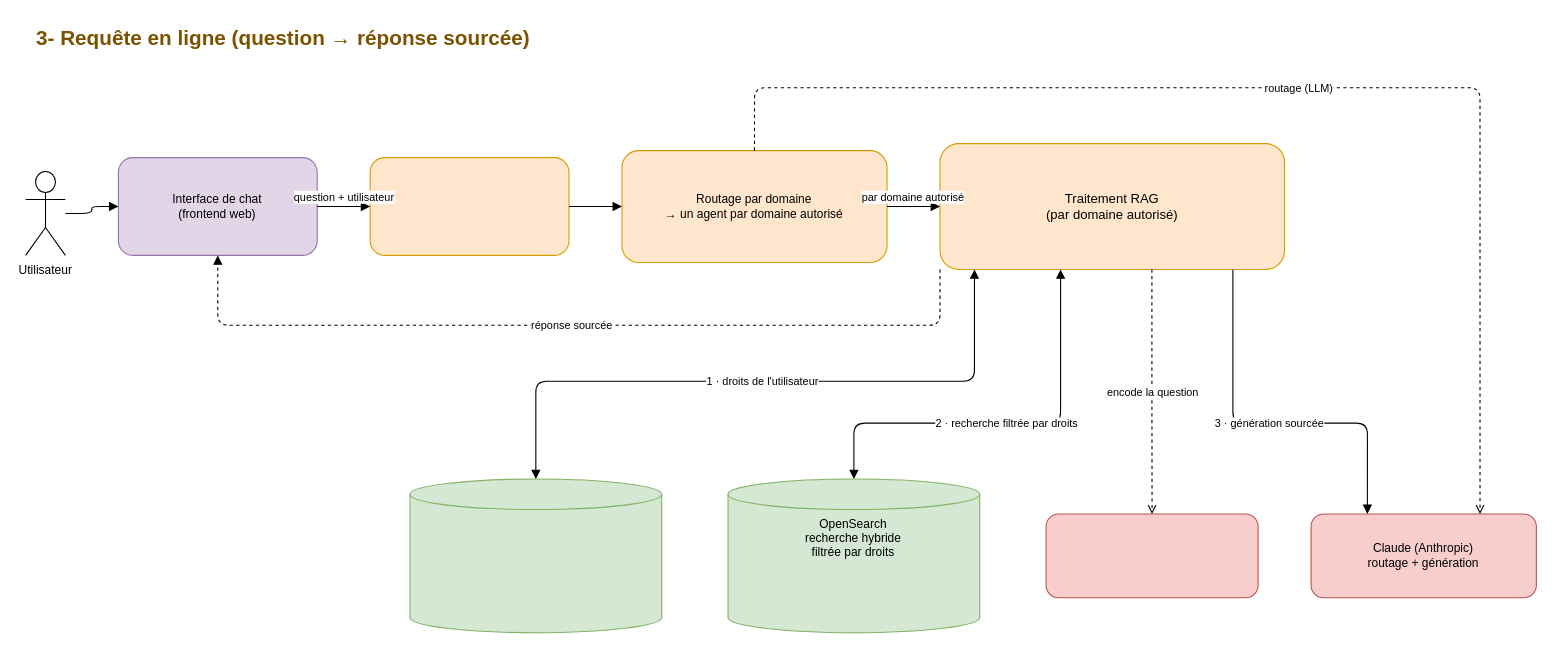
Image size: 1555x652. Some labels were removed from this diagram. Each missing label, with the centre of its shape:
API HTTP (point d'entrée): pixel 469 206
BGE-M3 encode la question: pixel 1151 555
PostgreSQL droits d'accès: pixel 535 555
